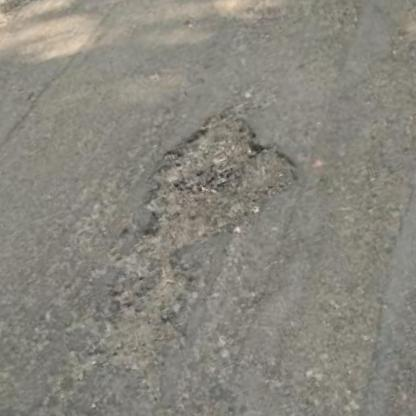pothole: (109, 92, 314, 274), (61, 258, 221, 389), (0, 0, 46, 33)
